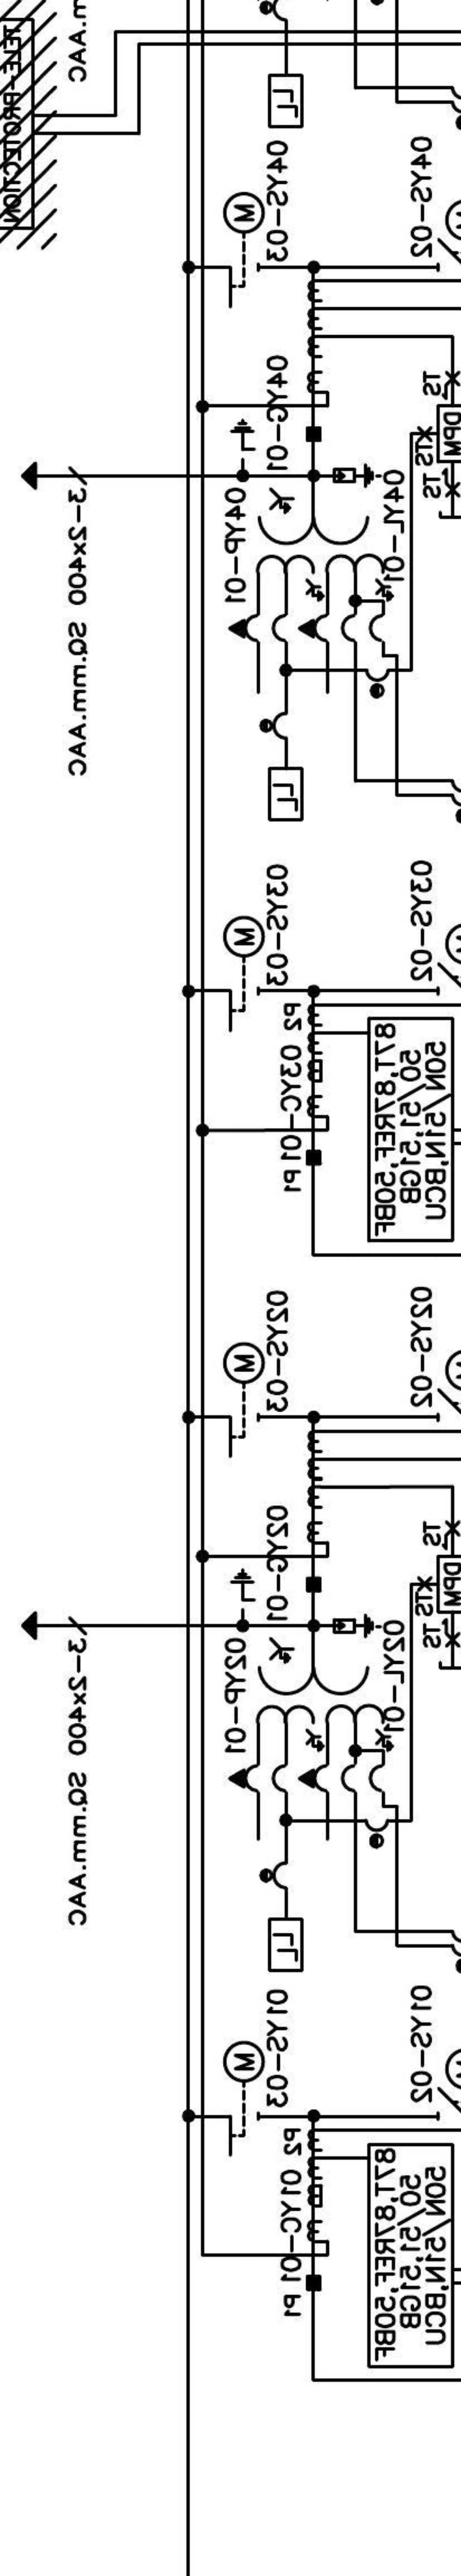115_1way_ds_w_motor: (223, 1340, 266, 1459), (222, 914, 266, 1034), (223, 190, 267, 309), (222, 2039, 265, 2158)
115_gs: (228, 417, 257, 463), (228, 1567, 257, 1612)
115_la: (332, 1612, 383, 1639), (332, 462, 383, 489)
115_vt_3p: (227, 486, 395, 644), (227, 1636, 394, 1794)
LL: (267, 1916, 304, 1972), (267, 766, 304, 822), (267, 72, 304, 128)
